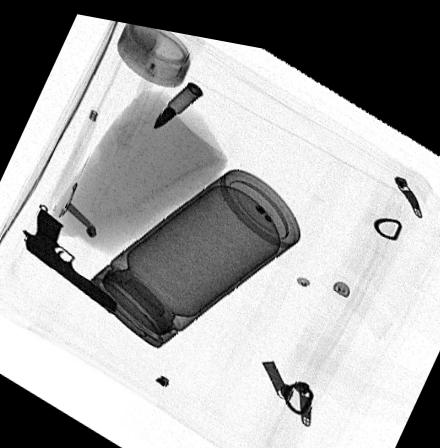Bullet: (153, 75, 203, 122)
Gun: (22, 205, 116, 310)
